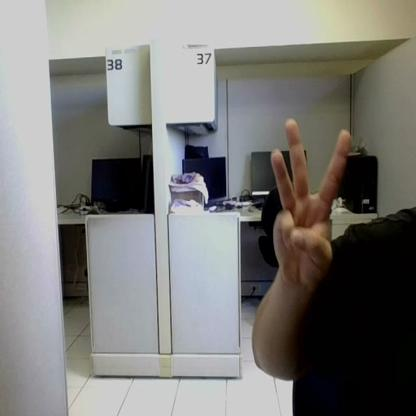W: (271, 120, 349, 284)
